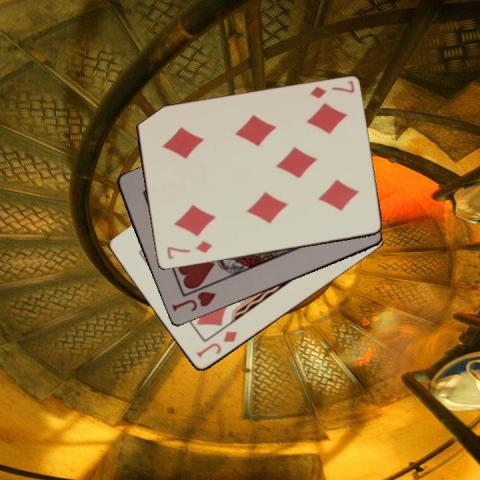7d: (164, 238, 214, 261), (305, 78, 356, 100)
Jd: (192, 328, 238, 360)
Jh: (169, 289, 217, 314)
